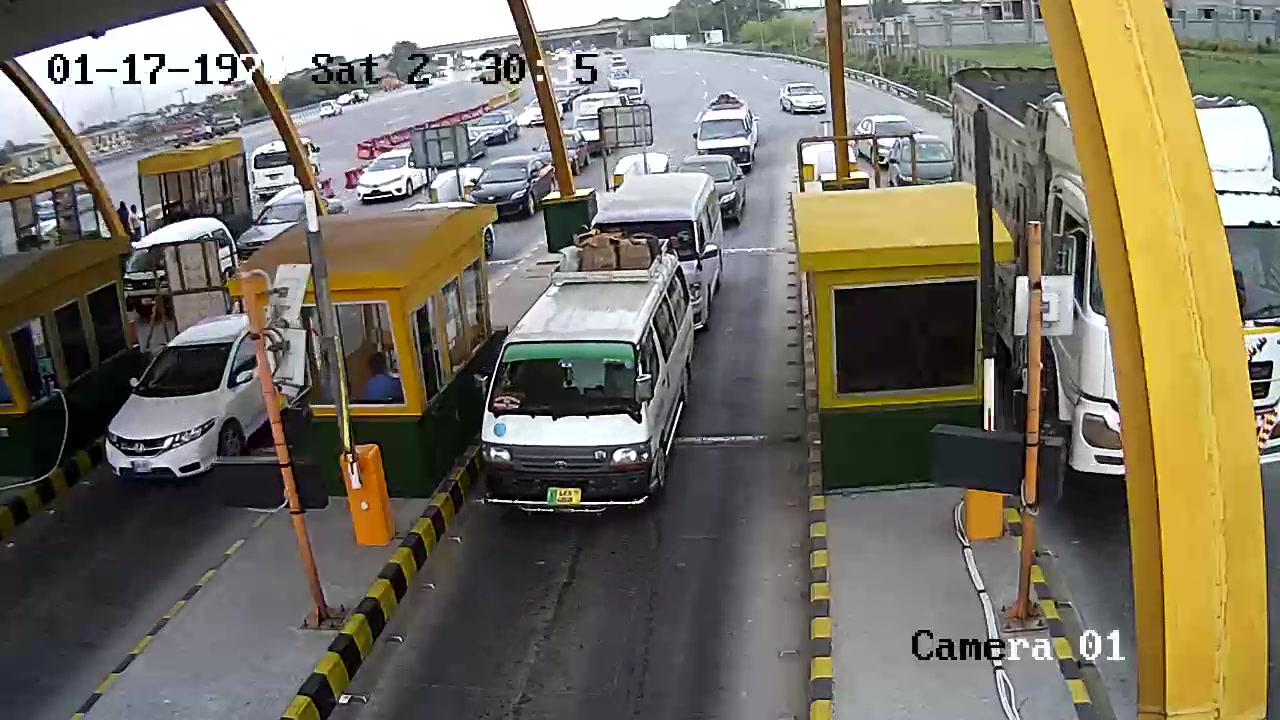F2: (475, 234, 714, 530)
